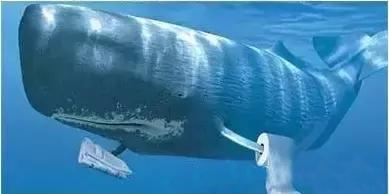fish: (18, 3, 389, 181)
